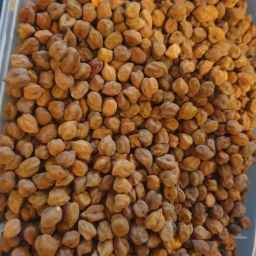Black Chickpeas: (24, 3, 164, 256), (149, 2, 253, 256), (8, 107, 241, 195), (2, 13, 81, 256)
